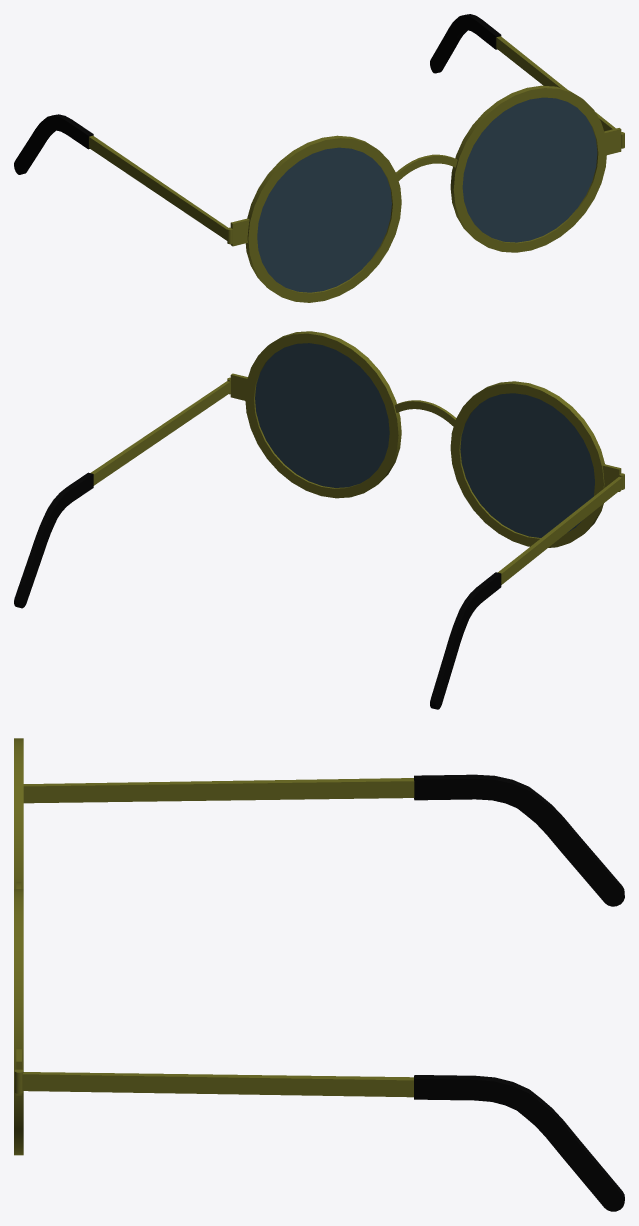
File: glasses.glb
3 renders of one model, top to bottom at view 1: azimuth 30°, elevation 25°; view 2: azimuth 150°, elevation 25°; view 3: azimuth 270°, elevation 25°, orthographic. The views are drawn at different scales.
Parts seen in each view (by area): view 1: glasses3.001; view 2: glasses3.001; view 3: glasses3.001.
Boxes of the visible parts, left/top/right/bottom form: glasses3.001: left=14, top=14, right=624, bottom=302; glasses3.001: left=14, top=331, right=624, bottom=709; glasses3.001: left=14, top=738, right=624, bottom=1211.
Bounding box in the file's own units: 1.94 × 0.7074 × 1.62.
